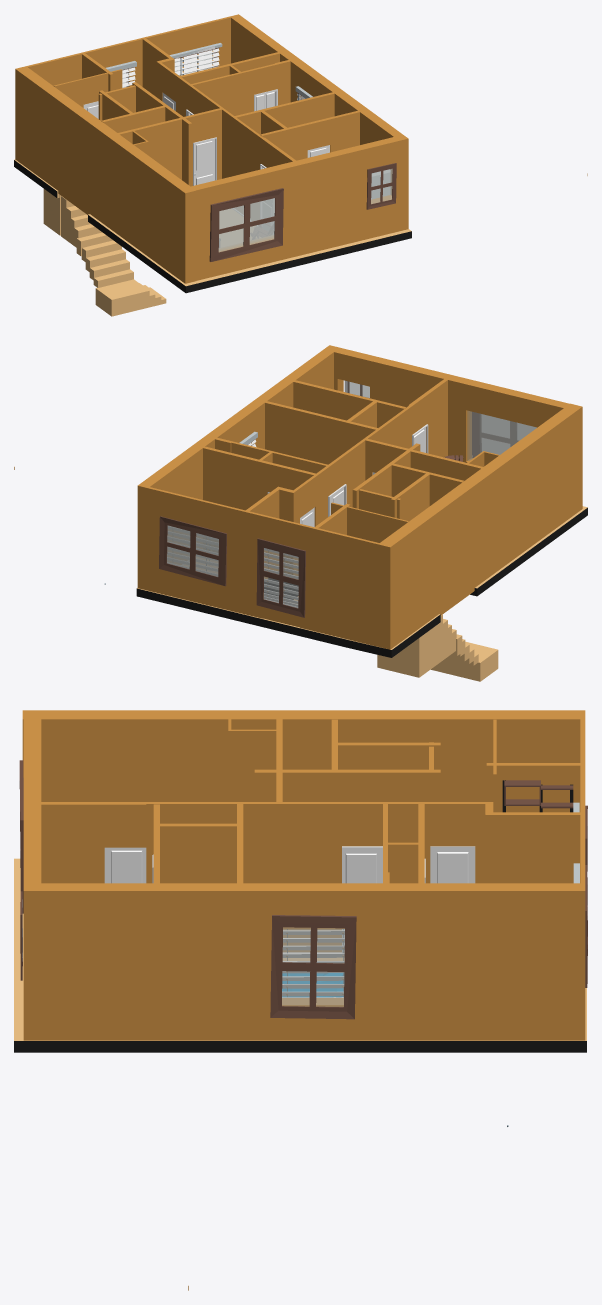
File: topFloor_model.fbx
3 renders of one model, top to bottom at view 1: azimuth 30°, elevation 25°; view 2: azimuth 150°, elevation 25°; view 3: azimuth 270°, elevation 25°, orthographic. The views are drawn at different scales.
Visible parts, largest first — view 1: group379263024, group723800643, group1421664206, group2070335785, group238259905, group1421465591, group1094710983; view 2: group379263024, group1421664206, group723800643, group2070335785, group238259905, group700922639, group866321240; view 3: group379263024, group700922639, group1670543473.
Part boxes in pixels (x1,y1,x2,y2): group379263024: (14, 14, 411, 293); group723800643: (95, 279, 149, 316); group1421664206: (43, 189, 60, 235); group2070335785: (84, 73, 106, 104); group238259905: (54, 78, 84, 107); group1421465591: (89, 259, 129, 280); group1094710983: (93, 269, 133, 287); group379263024: (136, 345, 587, 661); group1421664206: (377, 624, 437, 677); group723800643: (444, 641, 498, 681); group2070335785: (349, 507, 374, 541); group238259905: (373, 513, 408, 542); group700922639: (408, 394, 426, 434); group866321240: (262, 607, 299, 627); group379263024: (14, 710, 587, 1052); group700922639: (103, 802, 146, 847); group1670543473: (111, 850, 142, 883).
Size of the model in its own units: 541 by 202 by 358.
